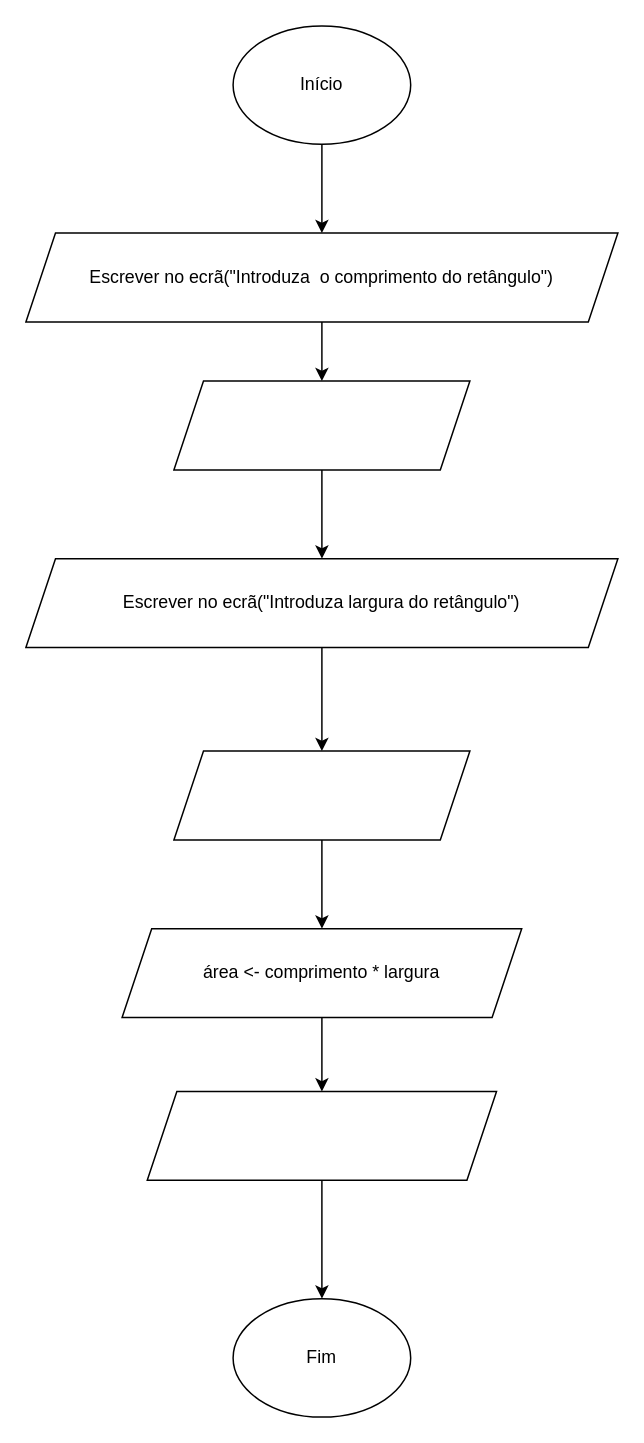
This 644x1443 diagram has some shape labels left out. The centre of each missing label's shape, as x and y in pixels:
Escrever("O resultado é", área): (321,1135)
Ler(comprimento): (321,425)
Ler(largura): (321,795)
